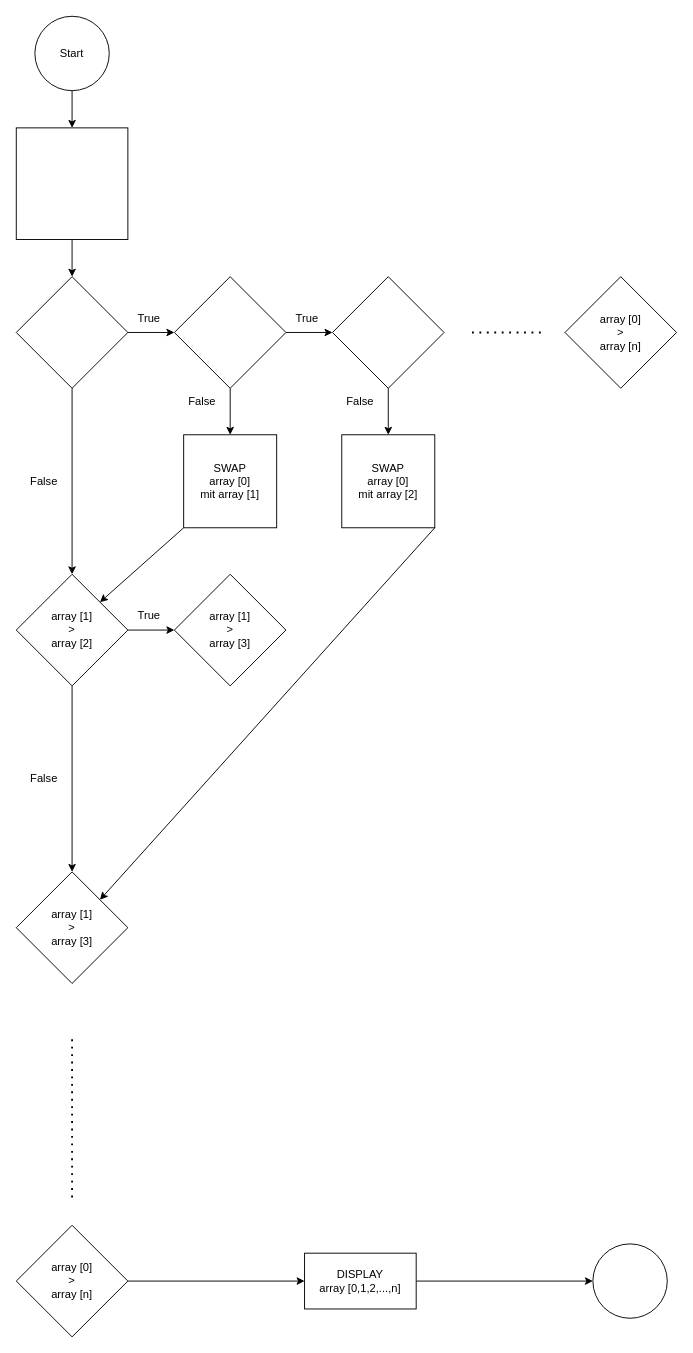
The diagram is 693 pixels wide and 1353 high, and some of its shapes have lost their labels. The centre of each missing label's shape, as x and y in pixels:
"array [0] > array [1]" belongs at [71,332].
"array [0] > array [2]" belongs at [229,332].
"array [0] > array [3]" belongs at [388,332].
"COUNT How many spaces are in the array? number = n" belongs at [71,183].
"End" belongs at [629,1280].
